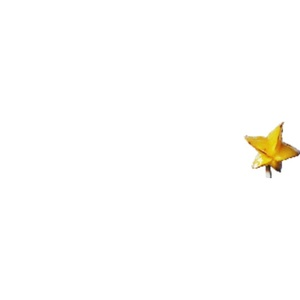carambola: (244, 122, 300, 175)
